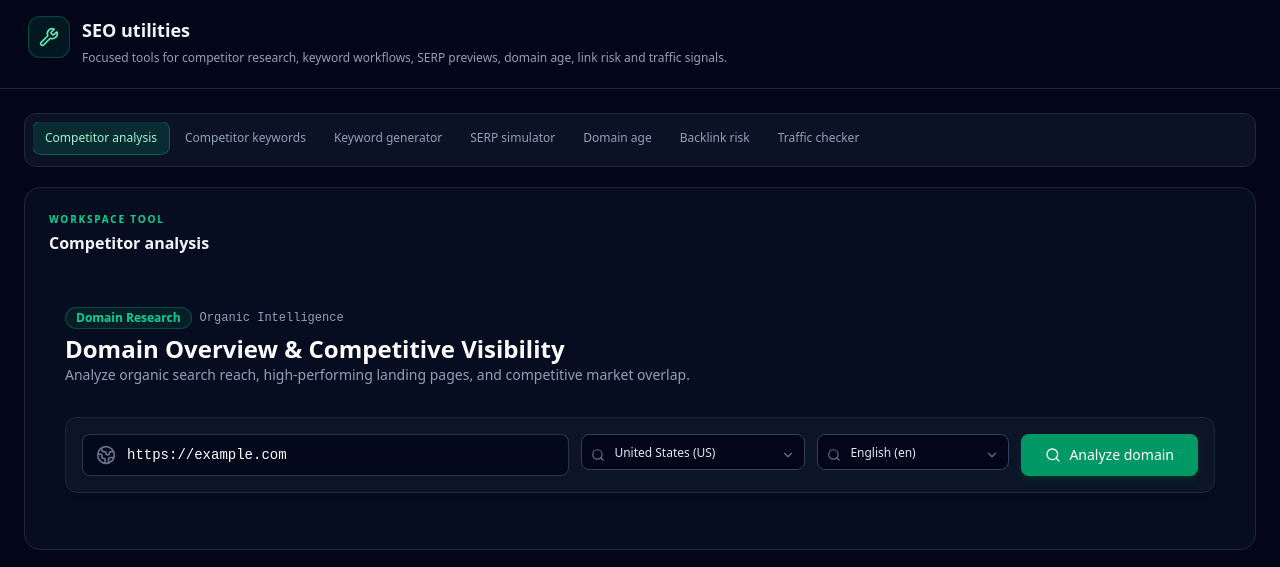
Scenario: SEO utilities workspace route › restores editable SEO utility domains after leaving and reopening a panel
Click the tab "Domain age" at [617, 138], box top-left (571, 122), bottom-right (664, 154)
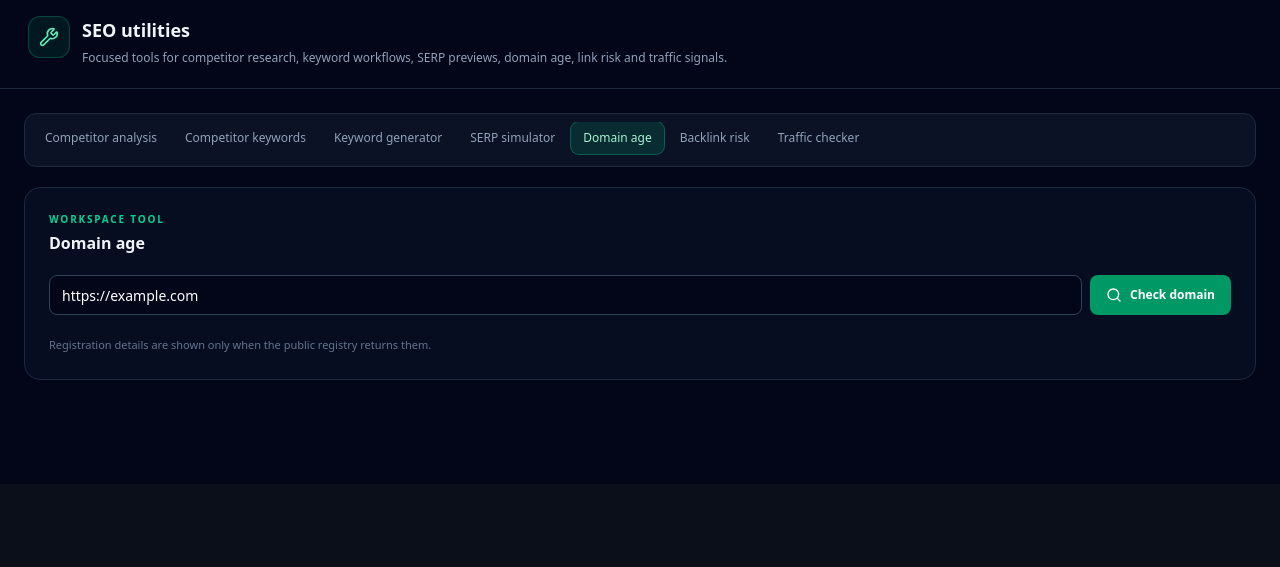
Replace the text in the field named "Domain" with "https://age.example.test" at [566, 295], box top-left (49, 275), bottom-right (1082, 315)
Click the tab "Competitor analysis" at [101, 138], box top-left (33, 122), bottom-right (169, 154)
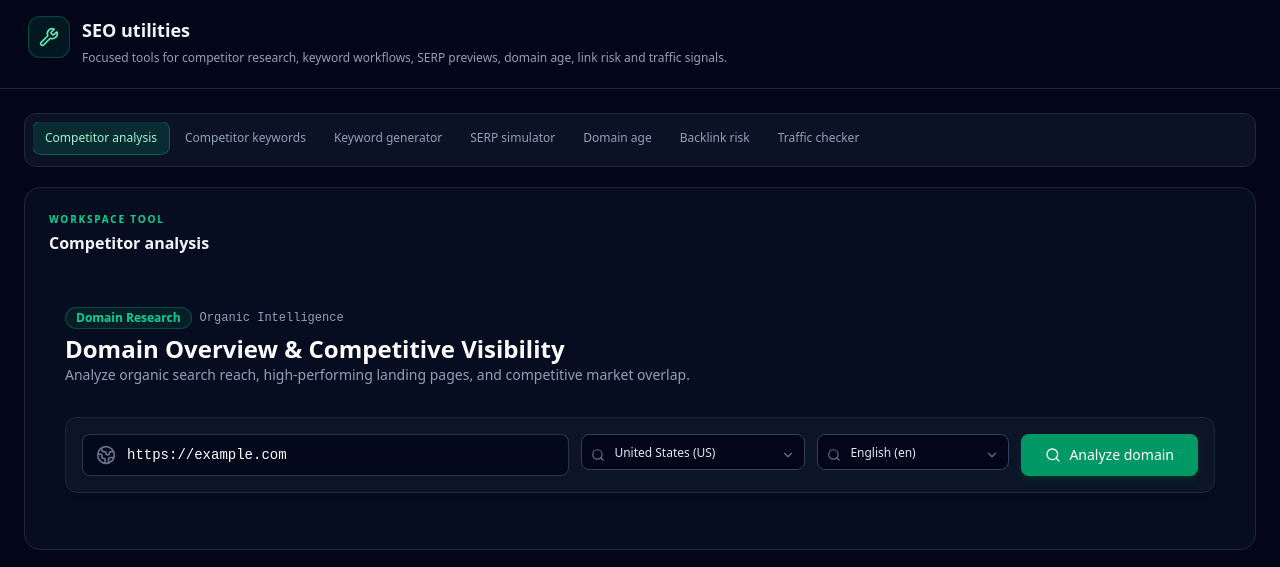
Click the tab "Domain age" at [617, 138], box top-left (571, 122), bottom-right (664, 154)
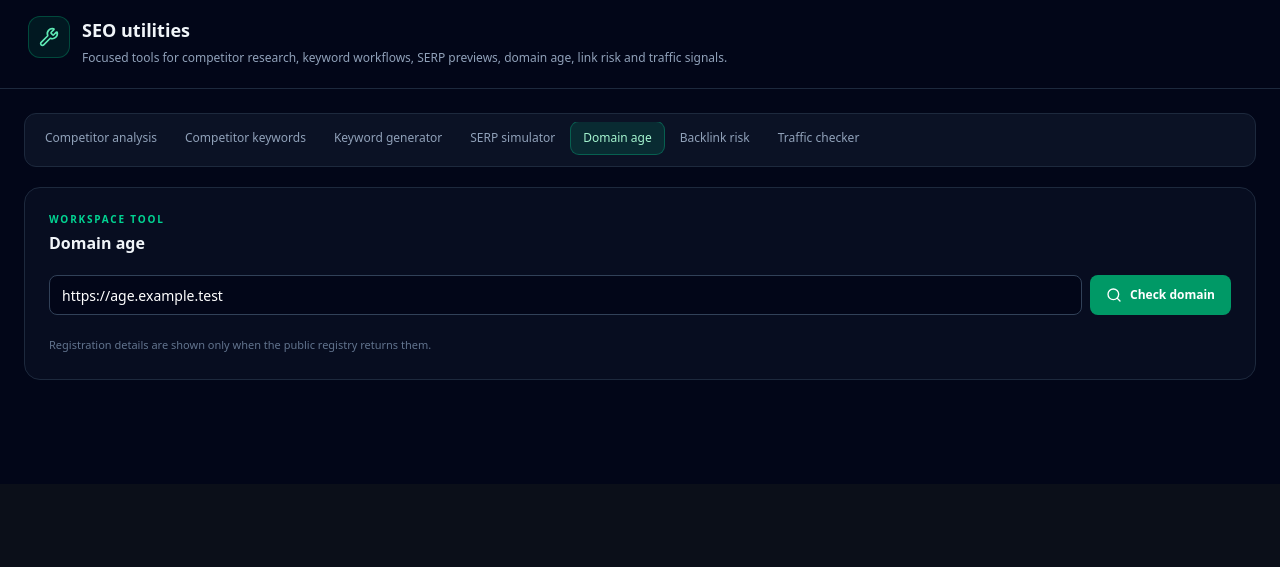
Check: the field named "Domain" holds "https://age.example.test", box top-left (49, 275), bottom-right (1082, 315)
Click the tab "Competitor keywords" at [245, 138], box top-left (173, 122), bottom-right (318, 154)
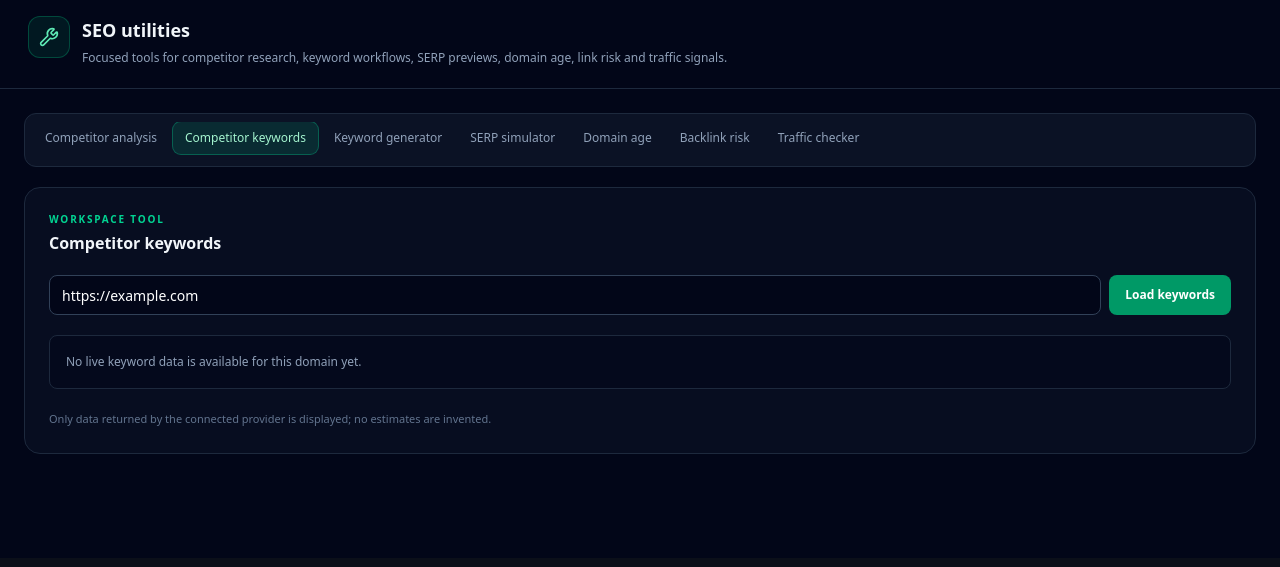
Replace the text in the field named "Competitor domain" with "competitor.example.test" at [575, 295], box top-left (49, 275), bottom-right (1101, 315)
Click the tab "Competitor analysis" at [101, 138], box top-left (33, 122), bottom-right (169, 154)
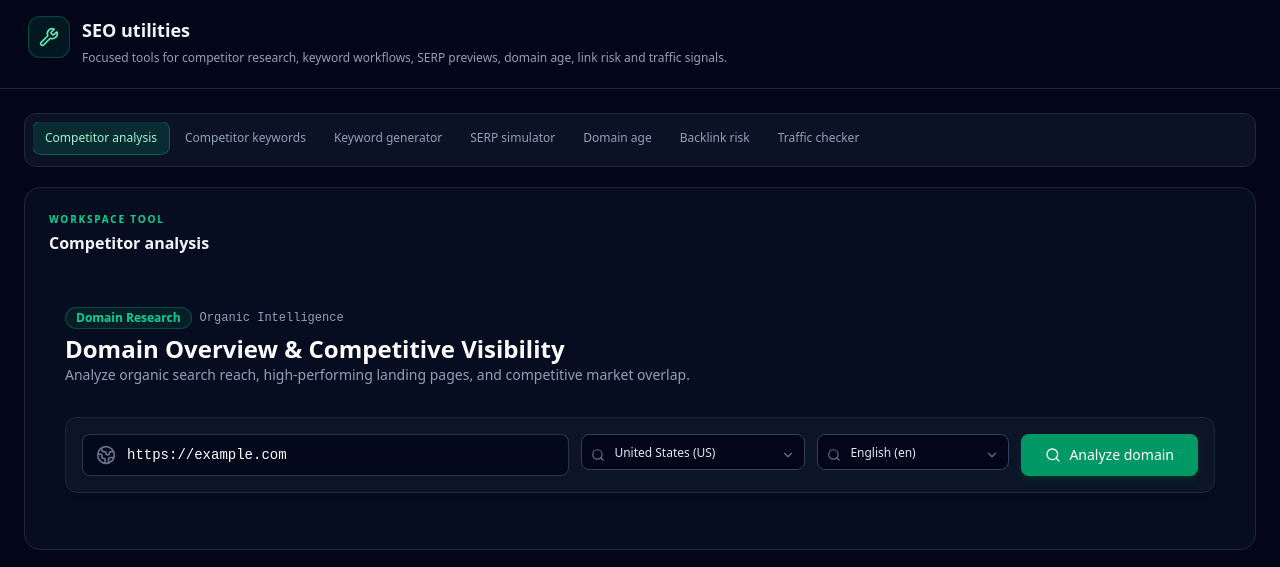
Click the tab "Competitor keywords" at [245, 138], box top-left (173, 122), bottom-right (318, 154)
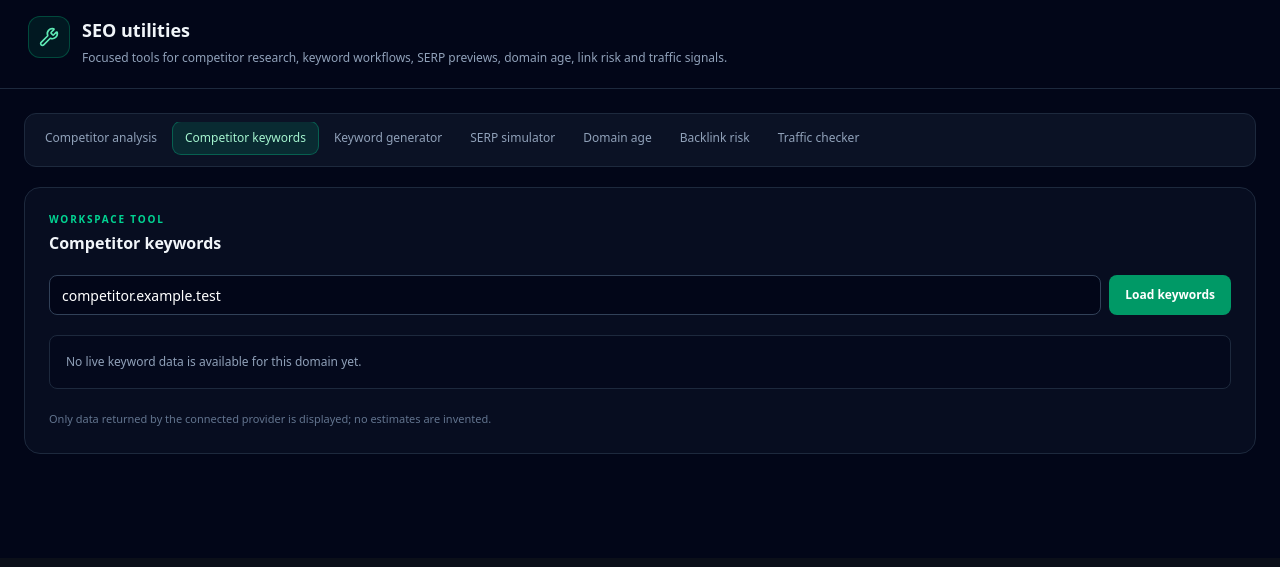
Check: the field named "Competitor domain" holds "competitor.example.test", box top-left (49, 275), bottom-right (1101, 315)
